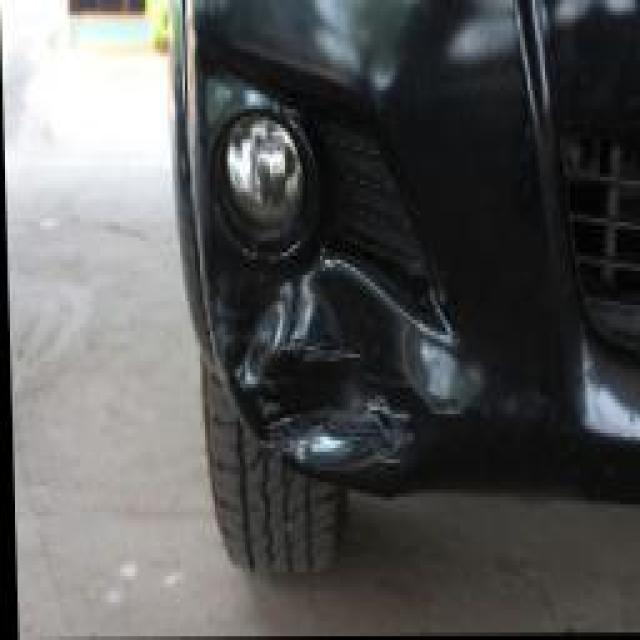Bumper: (205, 162, 555, 504)
